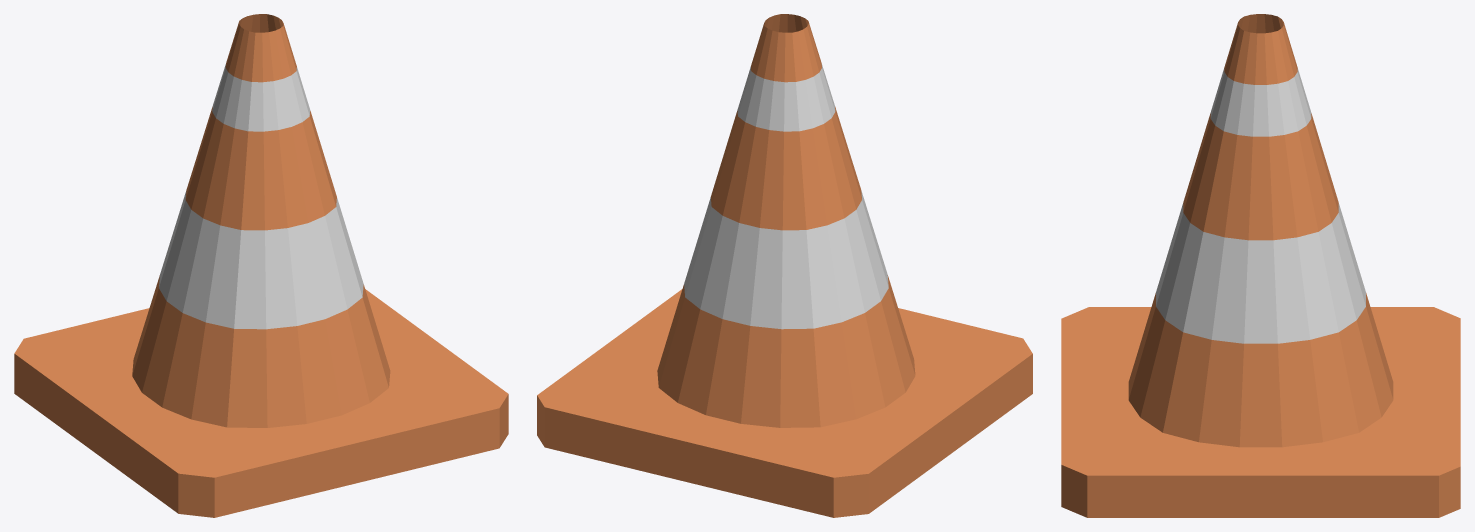
Rendered from trafficcone.glb.
3 renders of one model, left to right at view 1: azimuth 30°, elevation 25°; view 2: azimuth 150°, elevation 25°; view 3: azimuth 270°, elevation 25°, orthographic. The views are drawn at different scales.
Parts seen in each view (by area): view 1: Cube; view 2: Cube; view 3: Cube.
Boxes of the visible parts, x1,y1,x2,y2 form: Cube: (14, 14, 508, 517); Cube: (537, 14, 1032, 517); Cube: (1061, 14, 1460, 517).
Size of the model in its own units: 2.3 by 2.6 by 2.3.
